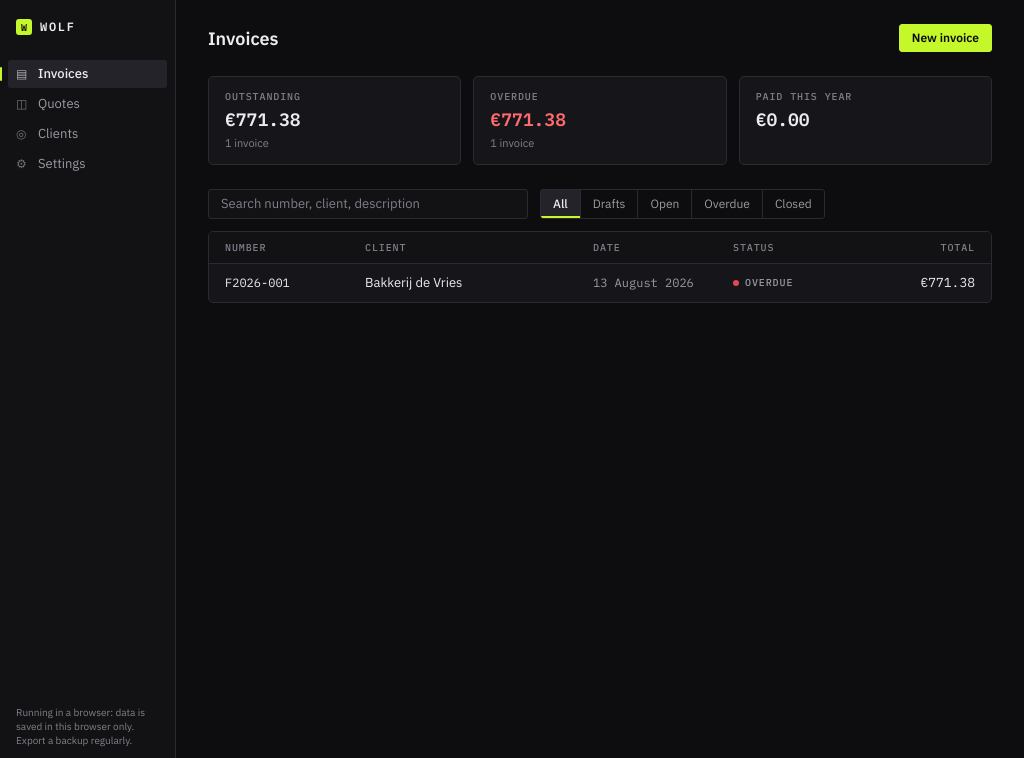
Scenario: writing an invoice › creates and opens a credit note from an issued invoice
The width and height of the screenshot is (1024, 758).
Step 1. Click the button "F2026-001 Bakkerij de Vries 13 August 2026 Overdue €771.38" → (600, 282), box [209,264,991,302]
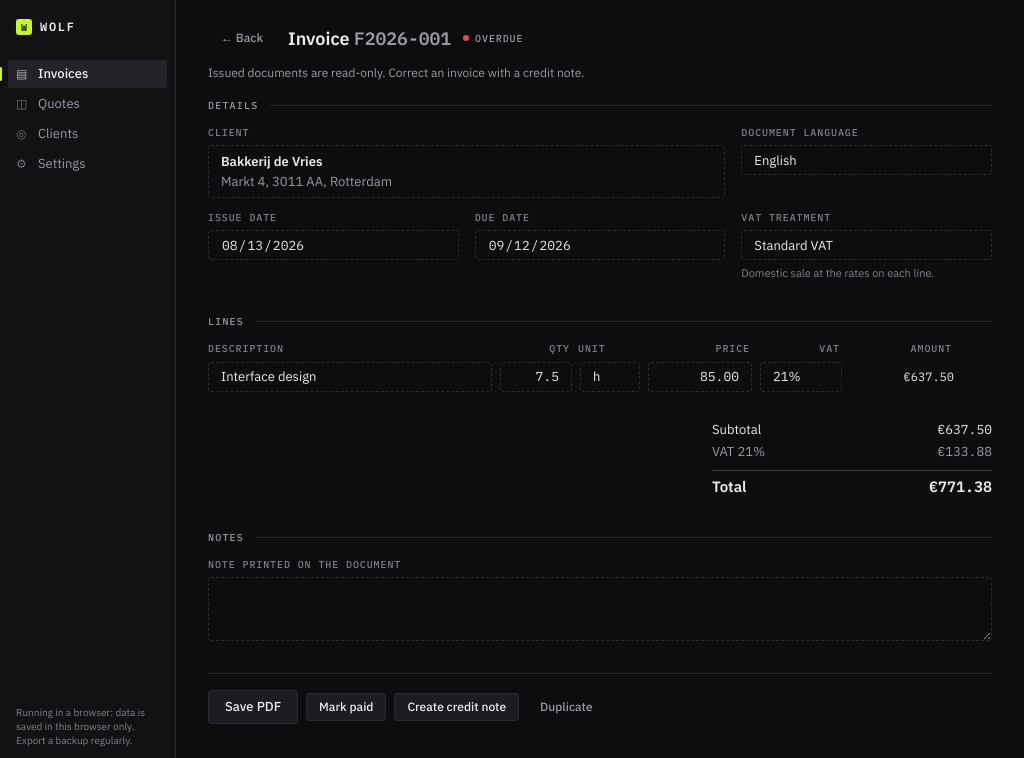
Step 2. Click the button "Create credit note" → (457, 707), box [394,693,519,721]
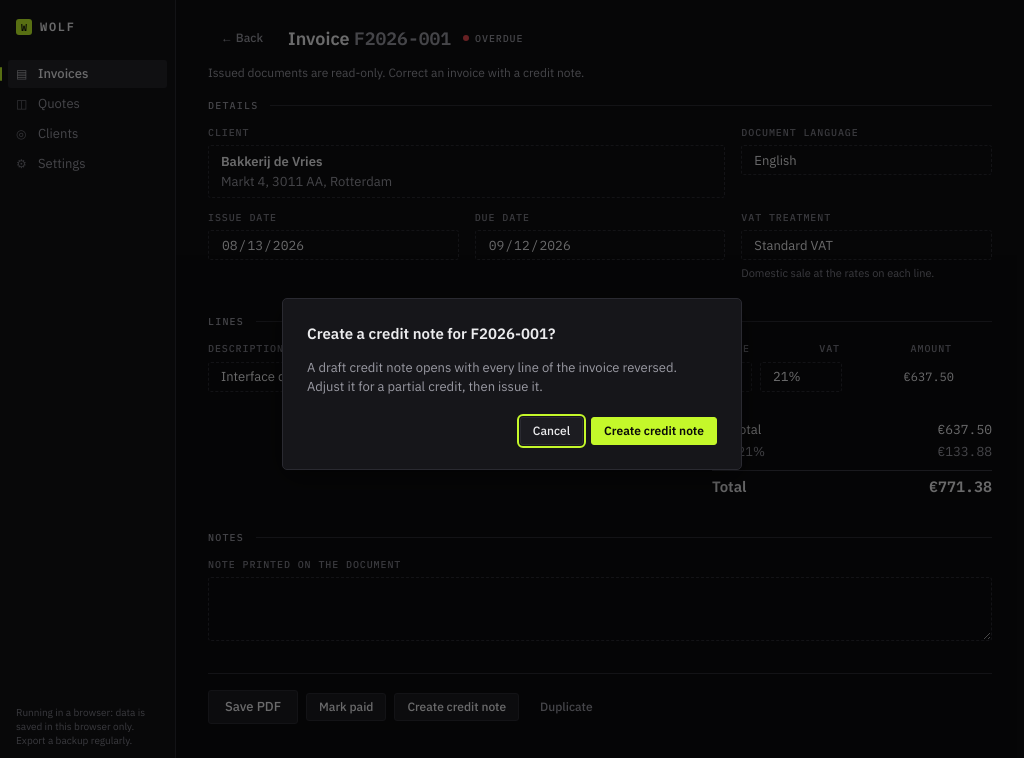
Step 3. Click the button "Create credit note" → (654, 431), box [591,417,717,445]
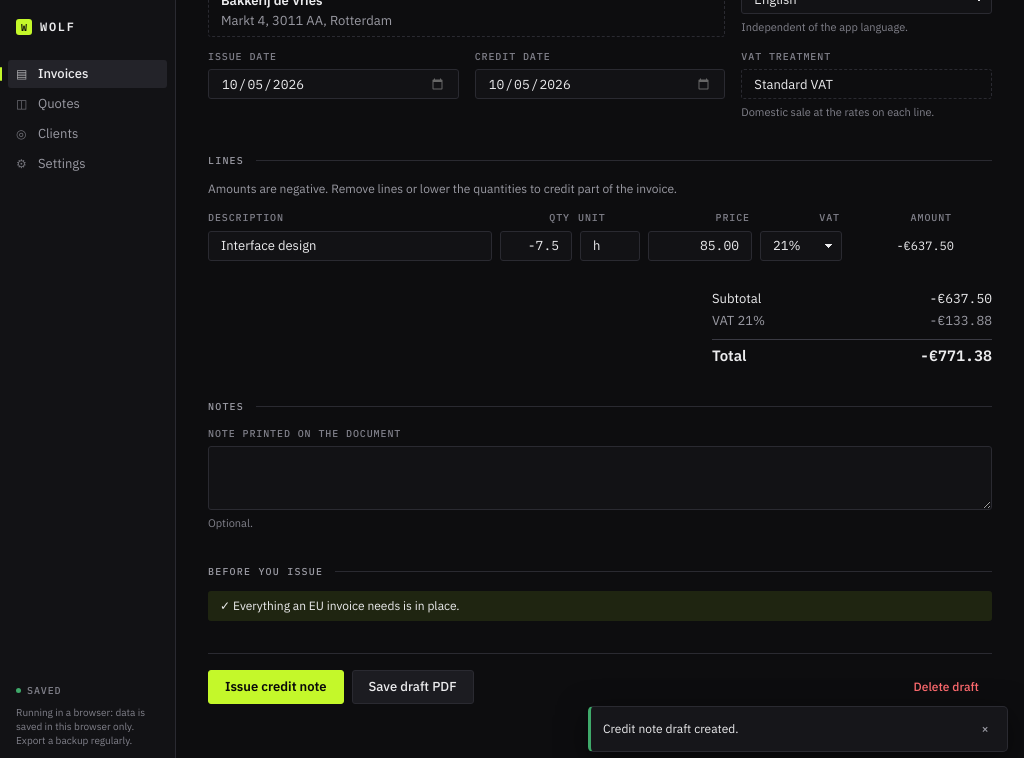
Result: the text with test id "grand-total" reads "-€771.38" at [920,346,992,364]
Result: the button "Issue credit note" is enabled at [208,670,344,704]
